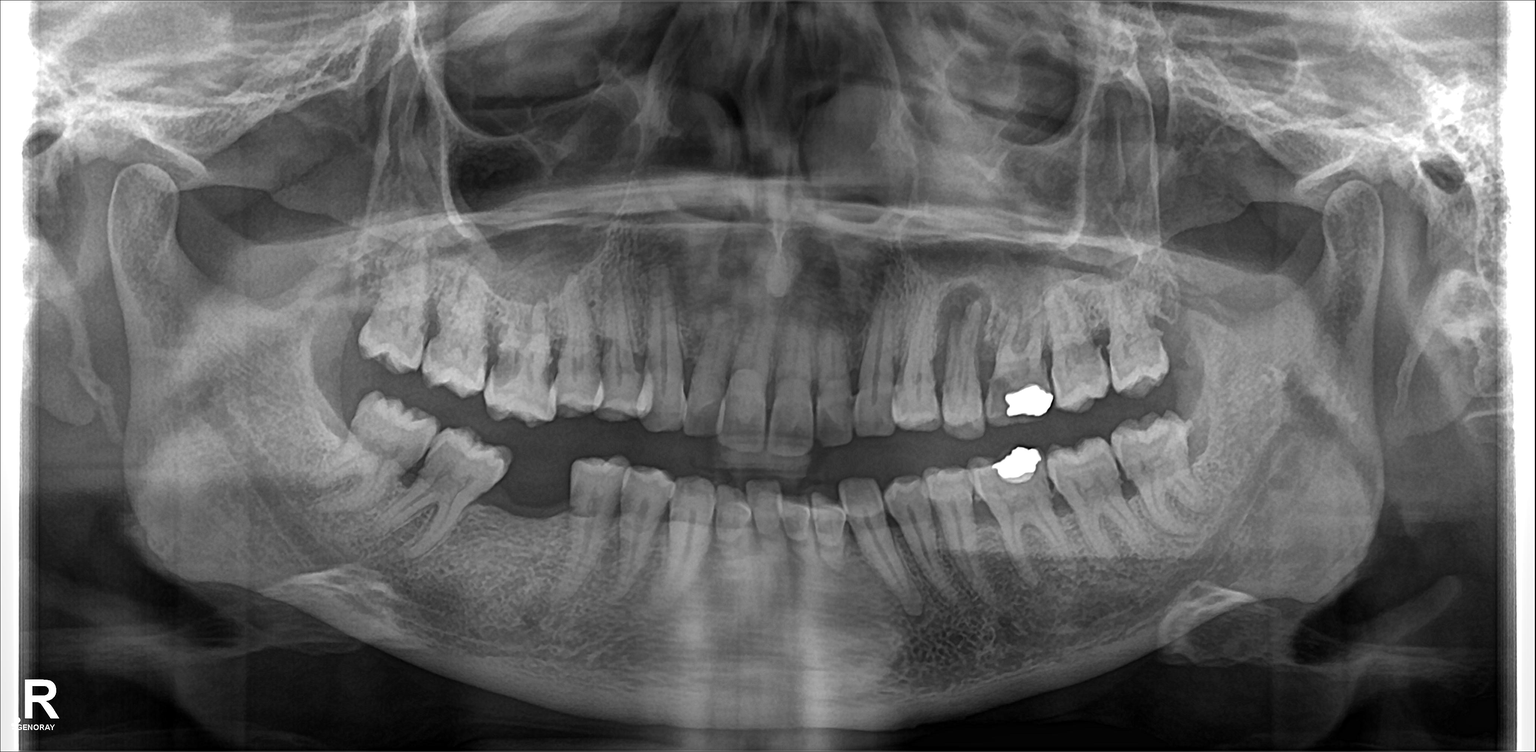Dental Caries: (477, 342, 521, 383)
Missing Tooth: (510, 447, 575, 560), (300, 363, 359, 448), (1162, 285, 1205, 377)
